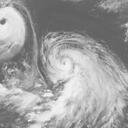cyclone: (42, 34, 88, 86), (1, 7, 24, 52)
